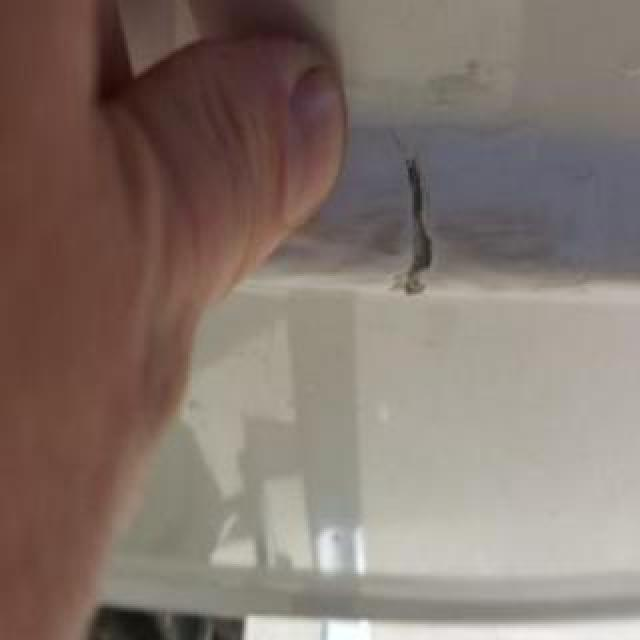crack: (389, 130, 435, 300)
